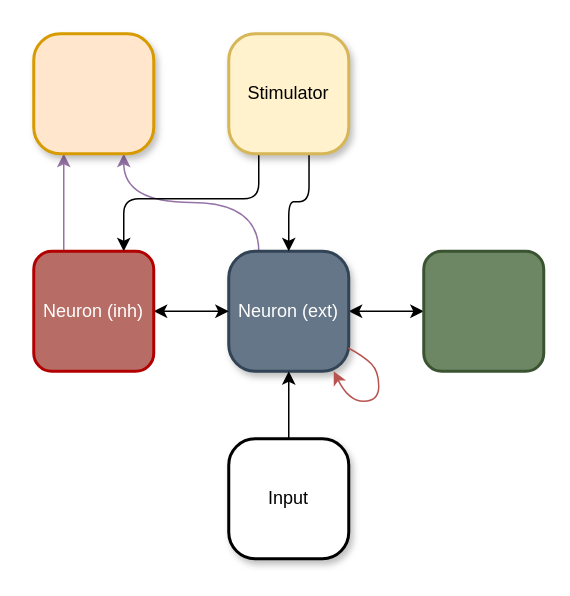
Image size: 570x596. Some labels were removed from this diagram. The centre of each missing label's shape, as x and y in pixels:
Astrocytes: the point at 483,310
Recorder: the point at 95,95
